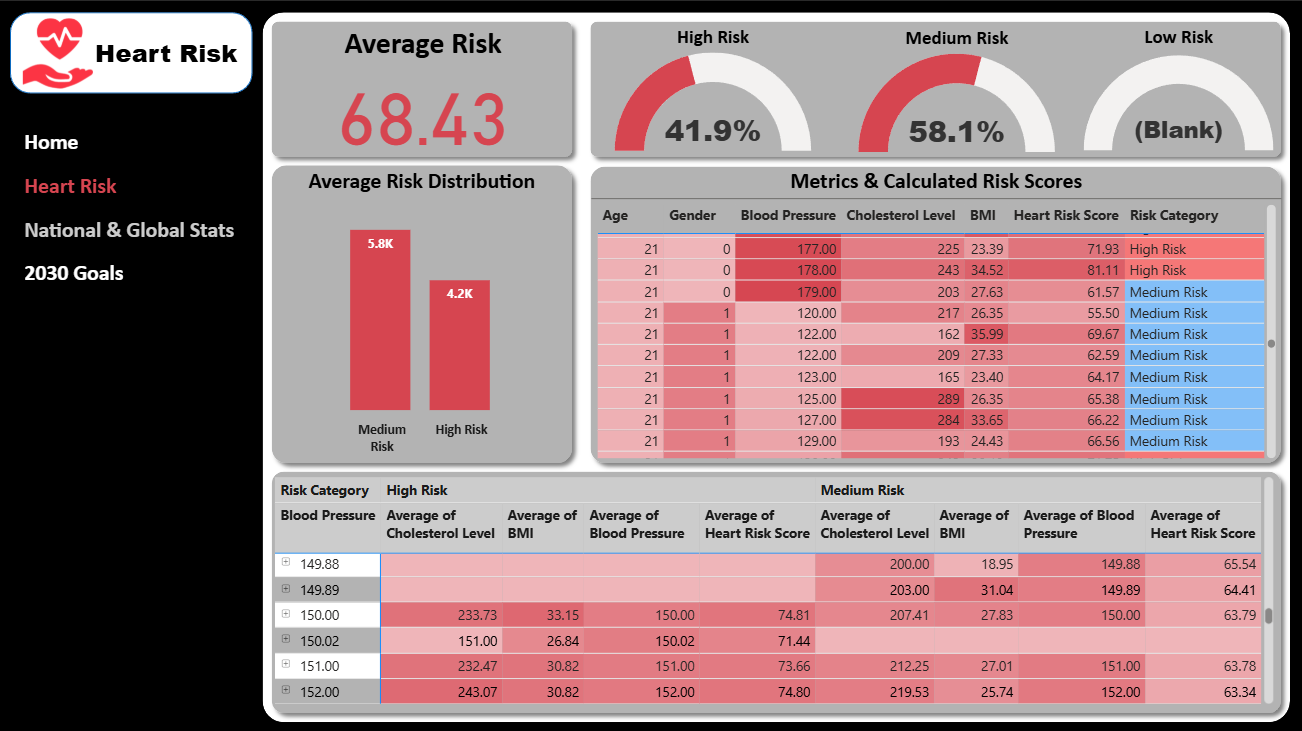

The dashboard page shown, as its layout file describes it:
{"tool":"powerbi","page":{"name":"Heart Risk","canvas":[1280,720],"ordinal":1},"visuals":[{"type":"shape","box":[9.8,11,238,79.8],"z":0},{"type":"textbox","box":[88.3,28.2,168.1,47.9],"z":2000},{"type":"actionButton","box":[9.8,116.6,238,42.9],"z":3000},{"type":"actionButton","box":[9.8,159.5,238,42.9],"z":4000},{"type":"actionButton","box":[9.8,202.5,238,42.9],"z":5000},{"type":"actionButton","box":[9.8,245.4,238,42.9],"z":6000},{"type":"shape","box":[257.7,11,1008.6,696.9],"z":7000},{"type":"shape","box":[257.7,11,312.9,150.9],"z":8000},{"type":"shape","box":[570.6,11,695.7,150.9],"z":9000},{"type":"card","title":"Average Risk","fields":{"Values":["New_measure.Avg Risk Score"]},"box":[289.6,23.3,251.5,128.8],"z":10000},{"type":"gauge","title":"Medium Risk","fields":{"Y":["New_measure.% Medium Risk"]},"box":[819.6,24.5,239.3,128.8],"z":11000},{"type":"gauge","title":"Low Risk","fields":{"Y":["New_measure.% Low Risk"]},"box":[1058.9,23.3,196.3,131.3],"z":12000},{"type":"gauge","title":"High Risk","fields":{"Y":["New_measure.% High Risk"]},"box":[580.4,23.3,239.3,128.8],"z":13000},{"type":"shape","box":[257.7,152.1,312.9,310.4],"z":14000},{"type":"clusteredColumnChart","title":"Average Risk Distribution","fields":{"Category":["Heart_Data.Risk Category"],"Y":["CountNonNull(Heart_Data.Age)"]},"box":[268.7,163.2,290.8,289.6],"z":15000},{"type":"shape","box":[570.6,153.4,695.7,309.2],"z":16000},{"type":"tableEx","title":"Metrics & Calculated Risk Scores","fields":{"Values":["Heart_Data.Age","Heart_Data.Gender","Heart_Data.Blood Pressure","Heart_Data.Cholesterol Level","Heart_Data.BMI","Heart_Data.Heart Risk Score","Heart_Data.Risk Category"]},"box":[580.4,163.2,677.3,289.6],"z":17000},{"type":"shape","box":[257.7,452.8,1008.6,255.2],"z":18000},{"type":"pivotTable","fields":{"Rows":["Heart_Data.Blood Pressure","Heart_Data.Cholesterol Level","Heart_Data.BMI","Heart_Data.Heart Risk Score"],"Columns":["Heart_Data.Risk Category"],"Values":["Avg(Heart_Data.Cholesterol Level)","Avg(Heart_Data.BMI)","Avg(Heart_Data.Blood Pressure)","Avg(Heart_Data.Heart Risk Score)"]},"box":[265,462.6,990.2,231.9],"z":19000},{"type":"image","box":[0,12.3,112.9,78.5],"z":19001}]}

Visuals, with their boxes in screenshot pixels (x1, y1, x2, y2), scaled from the page's 1280x720 canvas onto the 1302x731 screenshot:
shape: bbox=(10, 11, 252, 92)
textbox: bbox=(90, 29, 261, 77)
actionButton: bbox=(10, 118, 252, 162)
actionButton: bbox=(10, 162, 252, 205)
actionButton: bbox=(10, 206, 252, 249)
actionButton: bbox=(10, 249, 252, 293)
shape: bbox=(262, 11, 1288, 719)
shape: bbox=(262, 11, 580, 164)
shape: bbox=(580, 11, 1288, 164)
"Average Risk" card: bbox=(295, 24, 550, 154)
"Medium Risk" gauge: bbox=(834, 25, 1077, 156)
"Low Risk" gauge: bbox=(1077, 24, 1277, 157)
"High Risk" gauge: bbox=(590, 24, 834, 154)
shape: bbox=(262, 154, 580, 470)
"Average Risk Distribution" clusteredColumnChart: bbox=(273, 166, 569, 460)
shape: bbox=(580, 156, 1288, 470)
"Metrics & Calculated Risk Scores" tableEx: bbox=(590, 166, 1279, 460)
shape: bbox=(262, 460, 1288, 719)
pivotTable - Heart_Data.Blood Pressure x Heart_Data.Cholesterol Level: bbox=(270, 470, 1277, 705)
image: bbox=(0, 12, 115, 92)
